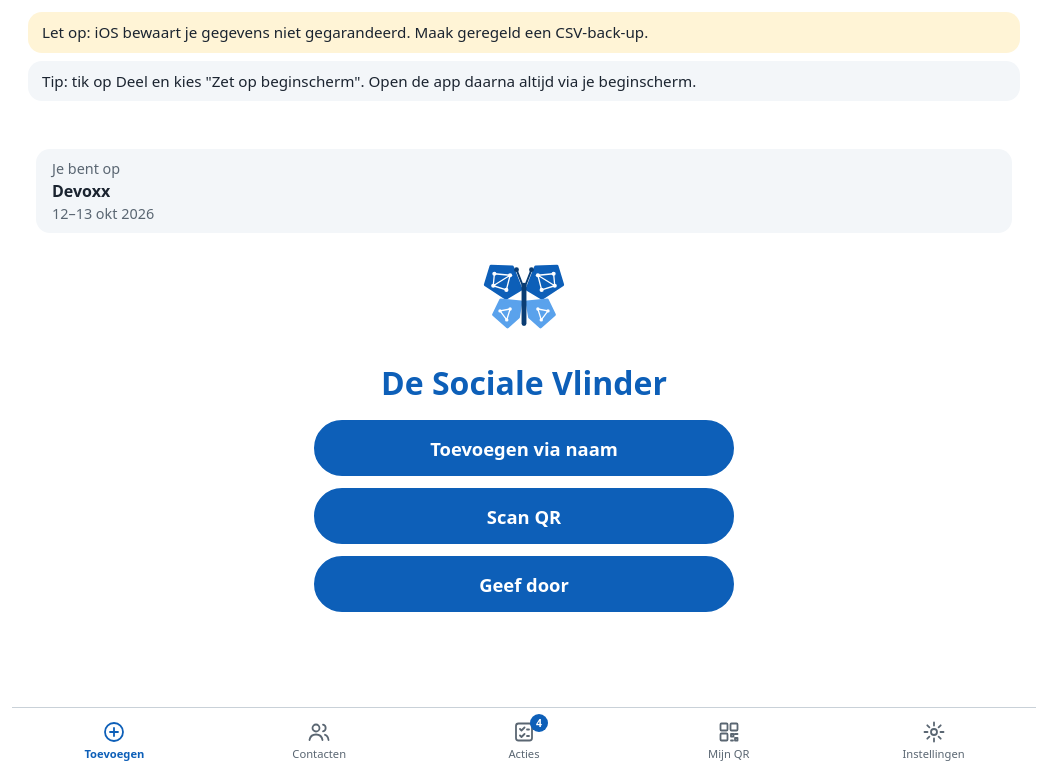
Test: Settings: manage Events (F10 US3) › lists every Event with dates, encounter count and the active mark
Click the button "Instellingen".
click(934, 740)  # box [831,712,1036,767]
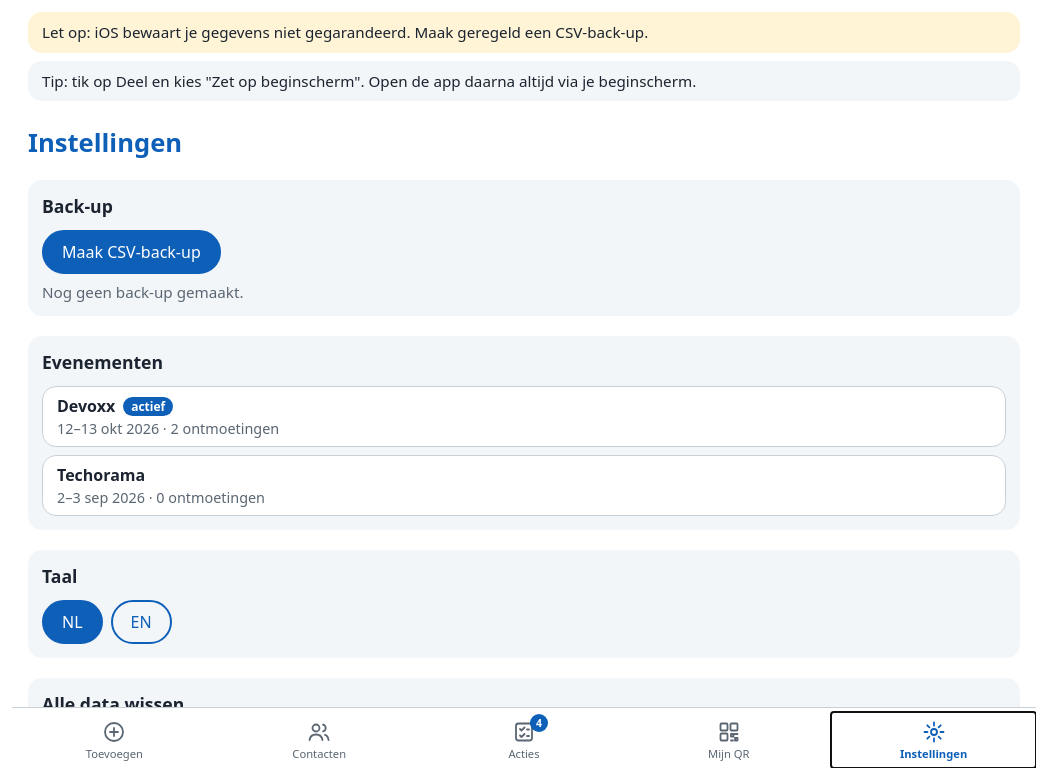
expect the heading "Instellingen" is shown: met, box [28,125,182,160]
expect the button "Devoxx actief 12–13 okt 2026 · 2 ontmoetingen" is shown: met, box [42,386,1006,447]
expect the text "actief" is shown once: met, box [123,396,173,416]
